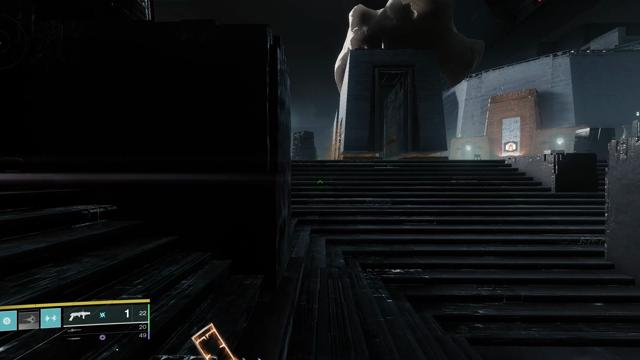worship: (506, 143, 516, 151)
